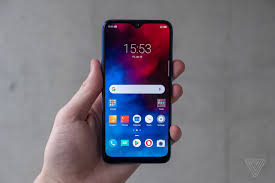oppo: (101, 16, 173, 162)
